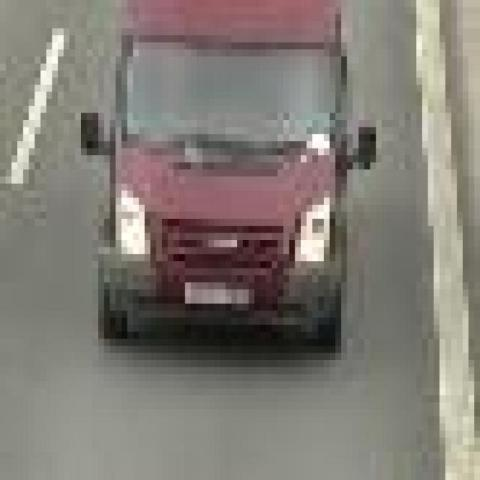van: (98, 0, 353, 353)
